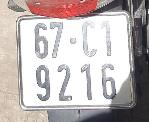1: (99, 17, 117, 59), (80, 59, 94, 103)
2: (54, 63, 73, 104)
6: (97, 62, 118, 102), (33, 21, 49, 61)
7: (49, 18, 66, 60)
9: (33, 61, 53, 102)
C: (79, 20, 100, 59)
